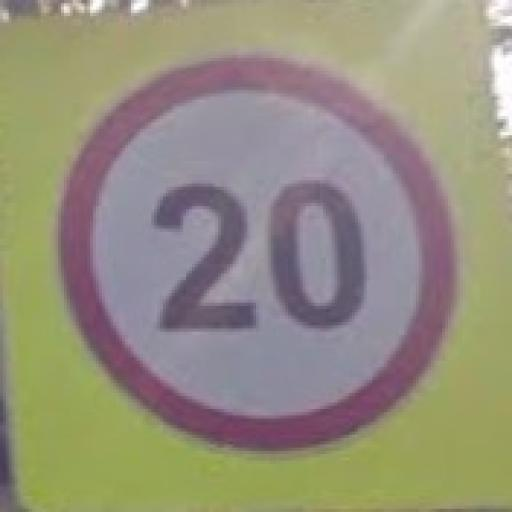traffic_sign: (54, 46, 464, 462)
